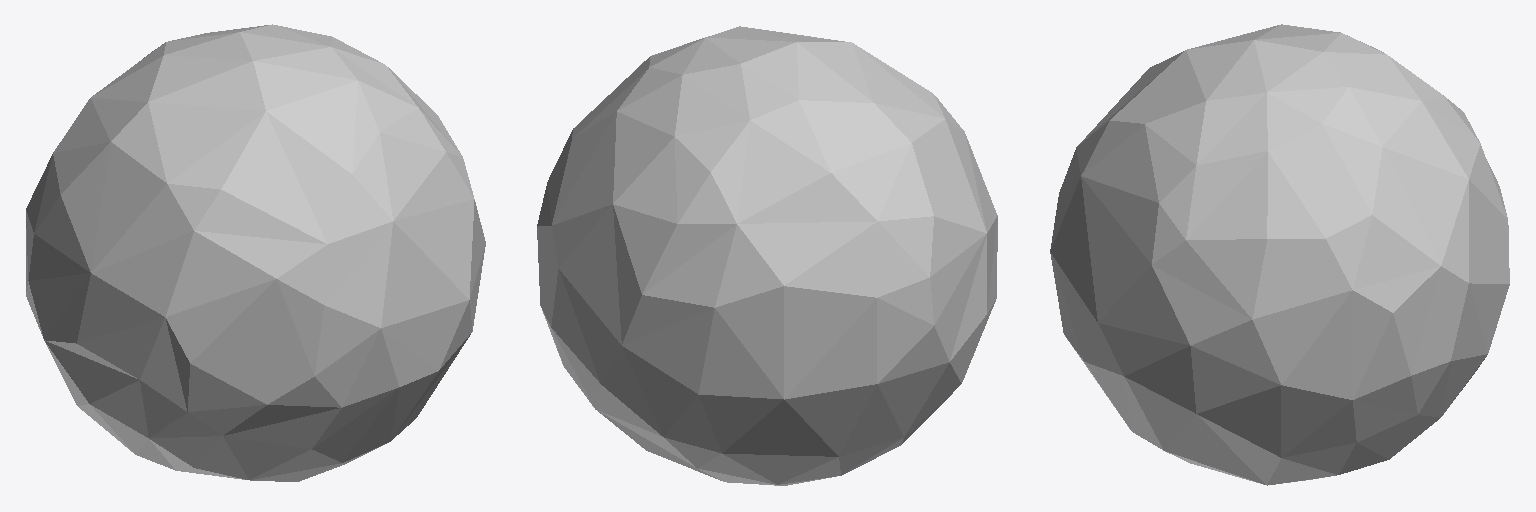
The model's file is ball.obj.
The picture shows the model from 3 angles: view 1: azimuth 30°, elevation 25°; view 2: azimuth 150°, elevation 25°; view 3: azimuth 270°, elevation 25°; orthographic projection.
Visible parts, largest first — view 1: Object.1; view 2: Object.1; view 3: Object.1.
Boxes of the visible parts, <box> form: Object.1: <box>26,24,485,481</box>; Object.1: <box>537,26,997,485</box>; Object.1: <box>1050,24,1509,485</box>.
Size of the model in its own units: 10 by 10 by 10.